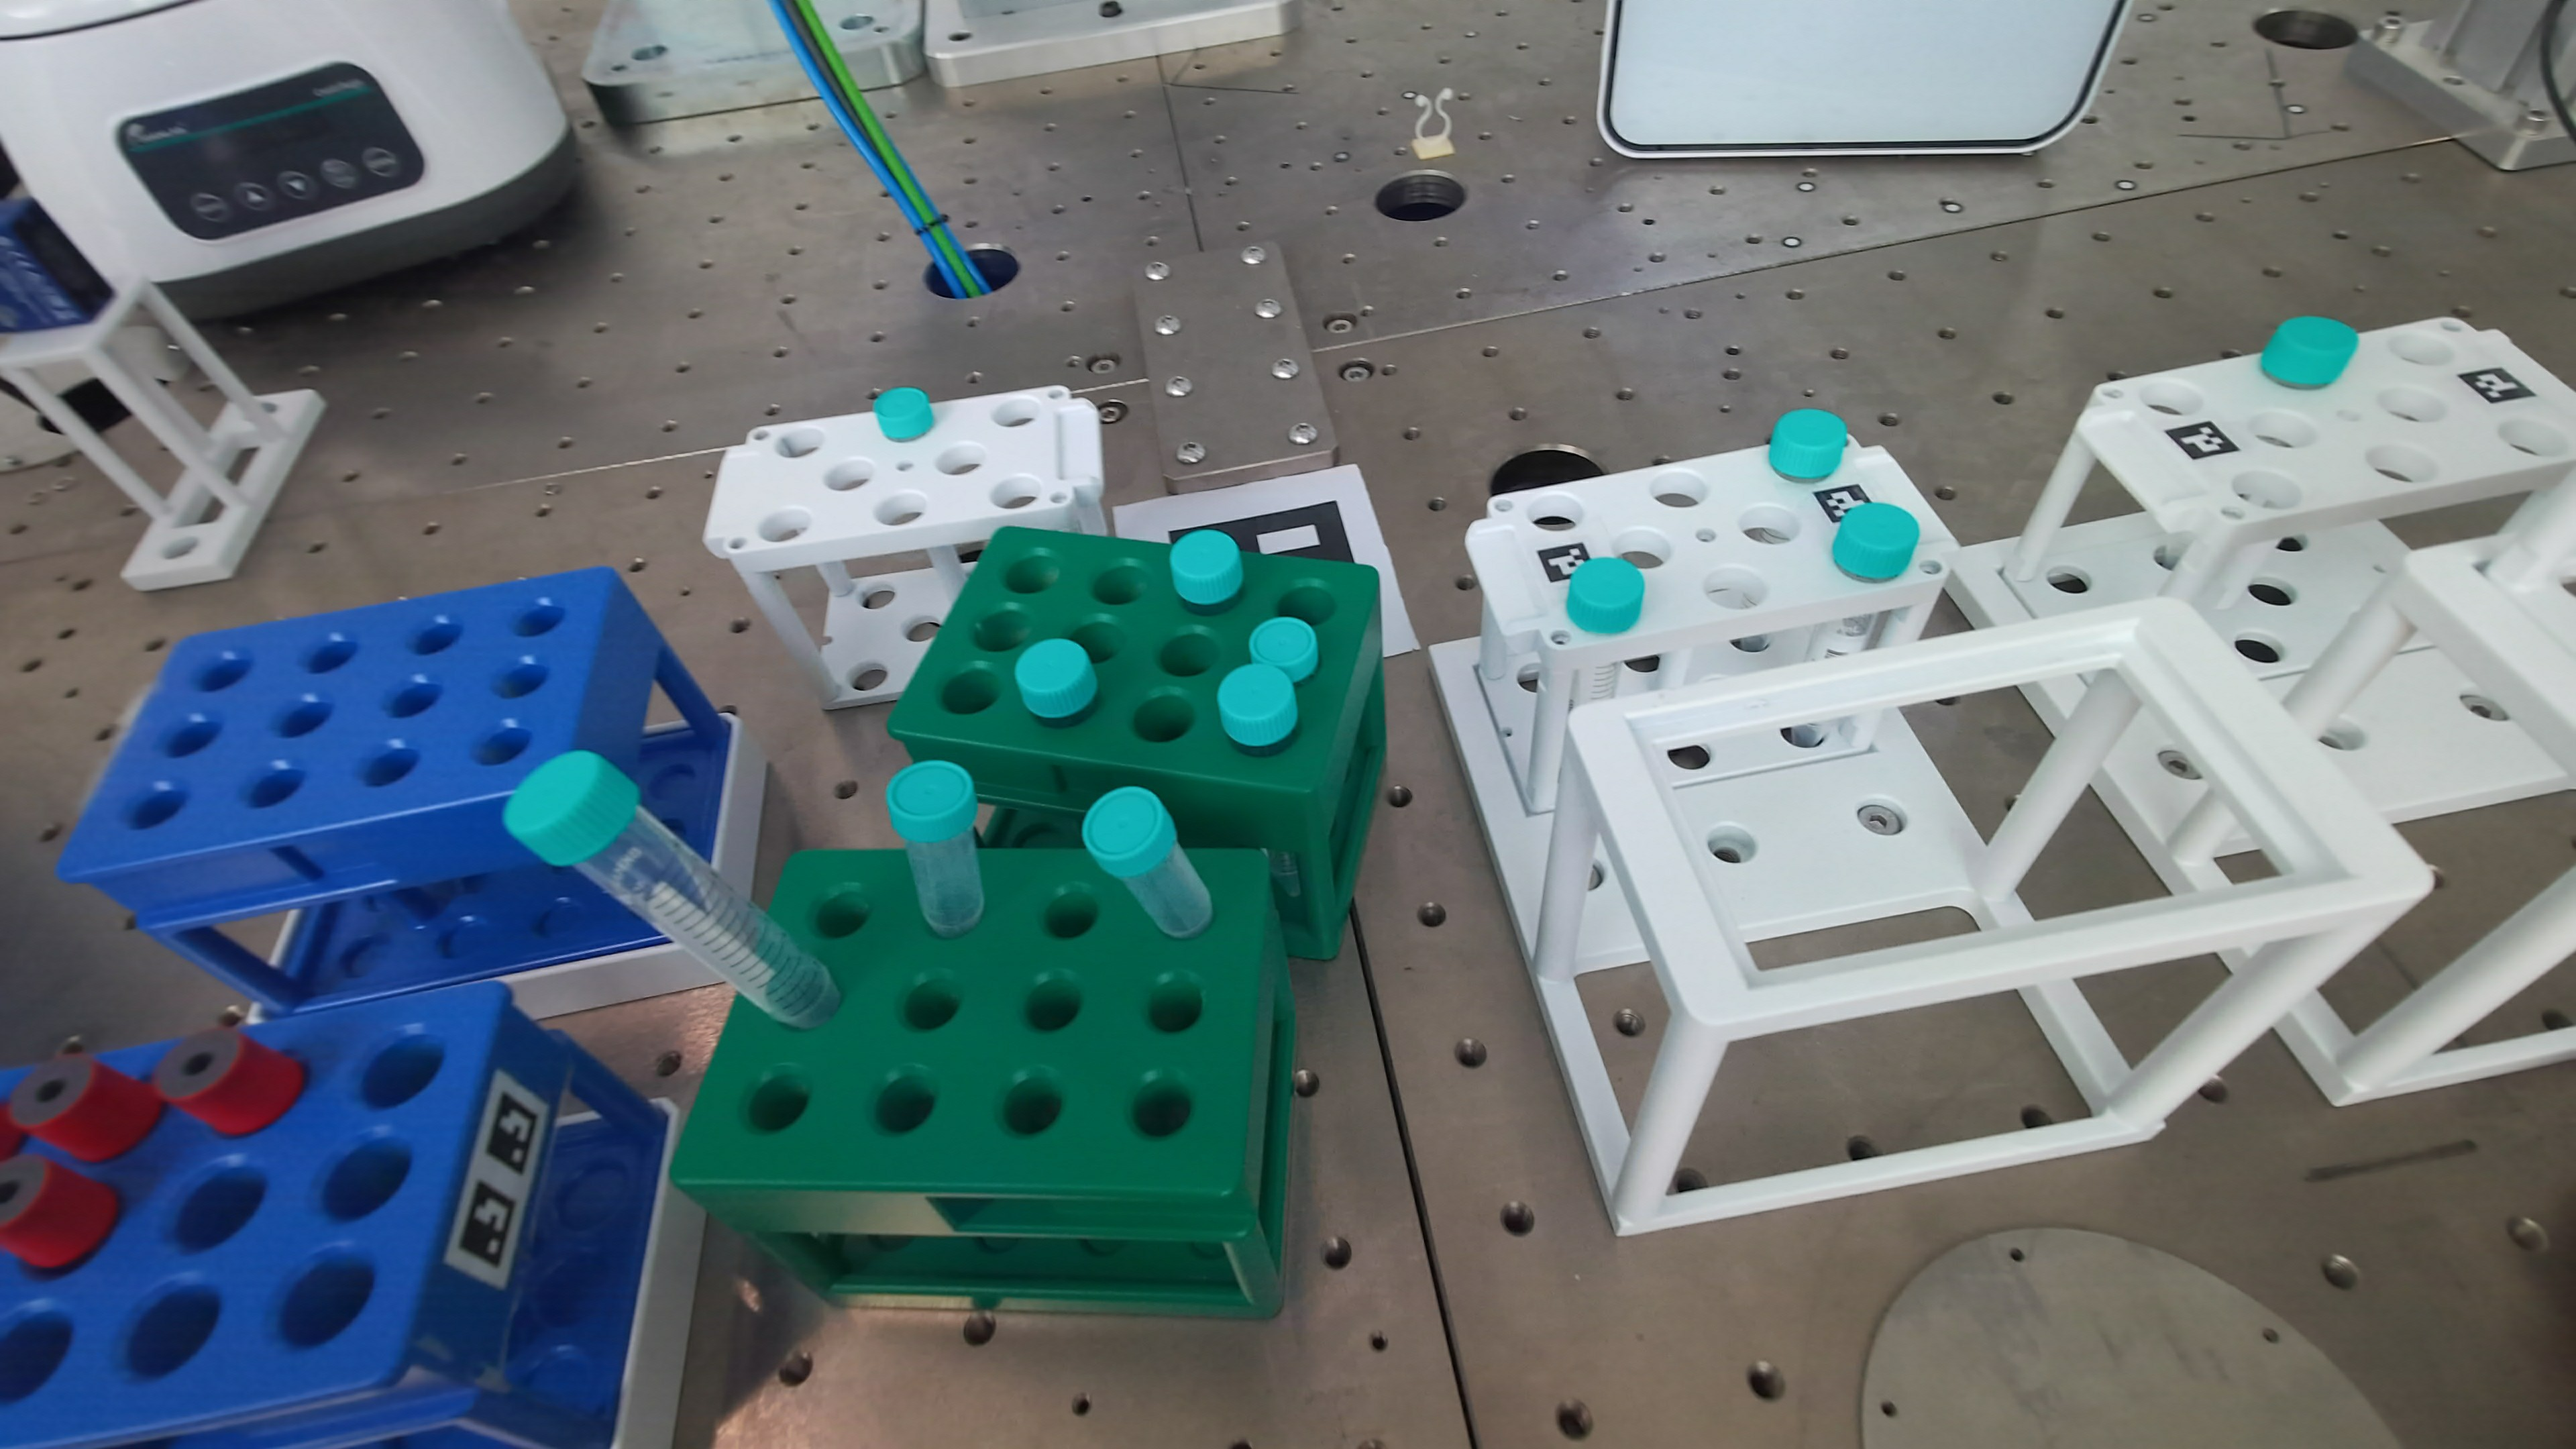10ML_centrifuge_tube: (504, 750, 840, 1028), (1831, 502, 1939, 582), (2259, 317, 2358, 387), (1217, 663, 1299, 748), (1016, 639, 1097, 718), (1566, 557, 1645, 635), (1169, 529, 1244, 609), (1767, 409, 1847, 479)
10ML_sorting_tube_rack: (0, 982, 667, 1445), (58, 570, 736, 1012)
5ML_centrifuge_tube: (1083, 786, 1214, 938), (886, 761, 984, 938), (1249, 616, 1318, 683), (874, 387, 934, 441)
5ML_sorting_tube_rack: (678, 777, 1292, 1316), (890, 525, 1385, 959)
blood_tube: (9, 1054, 163, 1162), (152, 1028, 304, 1136), (0, 1155, 119, 1269)
centrifuge_close: (0, 0, 577, 318)
dispensing_tube_rack: (1435, 318, 2576, 1233), (704, 386, 1108, 708)
refrigerator_close: (1598, 0, 2128, 157)
sorting_tube_rack_base: (271, 722, 766, 1019), (610, 1097, 706, 1449)
